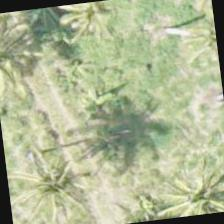Kelapa_Sawit: (3, 133, 101, 223), (47, 0, 143, 57), (161, 0, 221, 89), (155, 148, 223, 219)
